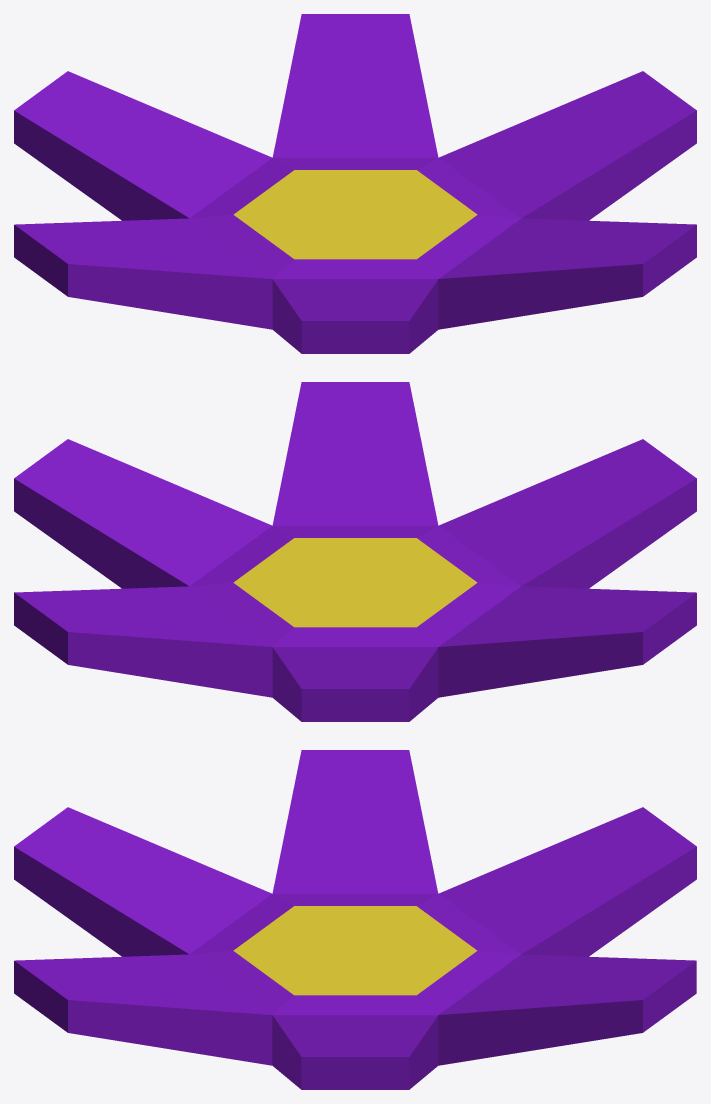
Rendered from Flower(Purple).fbx.
3 views of the same model, one above another, from view 1: azimuth 30°, elevation 25°; view 2: azimuth 150°, elevation 25°; view 3: azimuth 270°, elevation 25° (orthographic).
Visible parts, largest first — view 1: Cylinder; view 2: Cylinder; view 3: Cylinder.
Boxes of the visible parts, x1,y1,x2,y2 form: Cylinder: [14, 14, 696, 353]; Cylinder: [14, 382, 696, 721]; Cylinder: [14, 750, 696, 1089].
Size of the model in its own units: 165 by 25.53 by 156.
